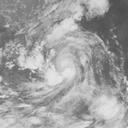cyclone: (45, 36, 92, 86)
